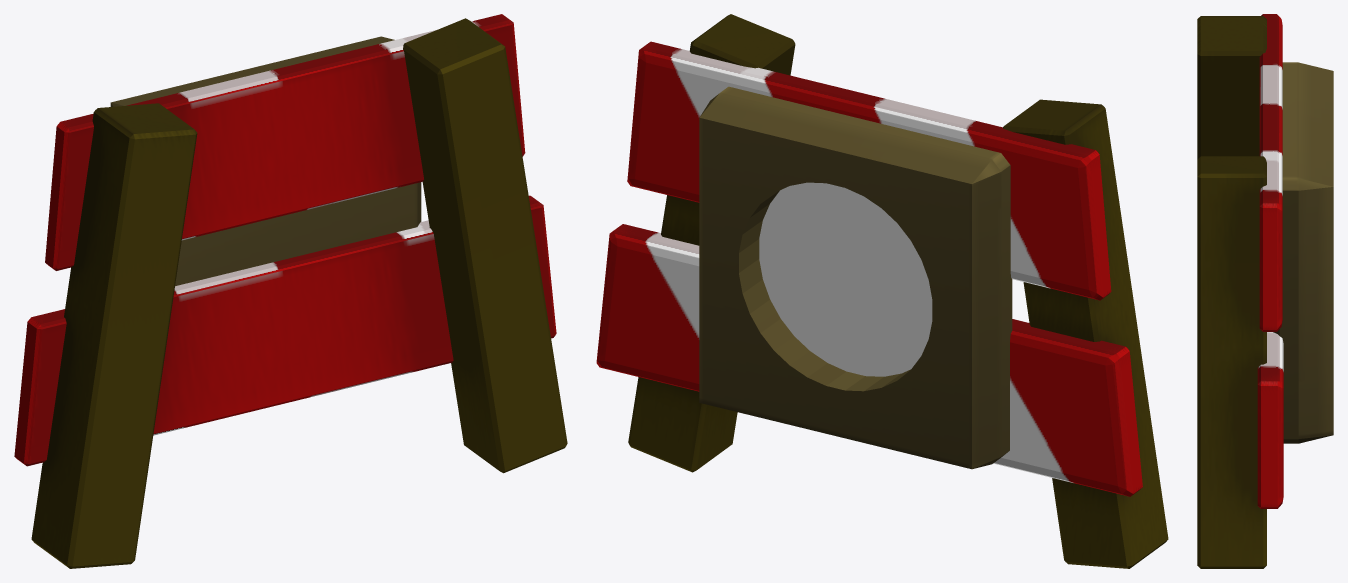
File: barrierShapeCircle.obj
The picture shows the model from 3 angles, left to right: view 1: azimuth 30°, elevation 25°; view 2: azimuth 150°, elevation 25°; view 3: azimuth 270°, elevation 25°; orthographic projection. The views are drawn at different scales.
Visible parts, largest first — view 1: barrierTriangle.002_Cube.033, barrierShapes.007_Cube.040; view 2: barrierTriangle.002_Cube.033, barrierShapes.007_Cube.040, barrierShapes.008_Cube.041; view 3: barrierTriangle.002_Cube.033, barrierShapes.007_Cube.040.
Part boxes in pixels (bbox=[...]): barrierTriangle.002_Cube.033: bbox=[14, 14, 567, 568]; barrierShapes.007_Cube.040: bbox=[110, 36, 421, 286]; barrierTriangle.002_Cube.033: bbox=[596, 14, 1168, 568]; barrierShapes.007_Cube.040: bbox=[699, 86, 1012, 469]; barrierShapes.008_Cube.041: bbox=[759, 182, 932, 376]; barrierTriangle.002_Cube.033: bbox=[1197, 14, 1283, 568]; barrierShapes.007_Cube.040: bbox=[1273, 62, 1333, 443].
Bounding box in the file's own units: 2.26 × 1.74 × 0.571.
